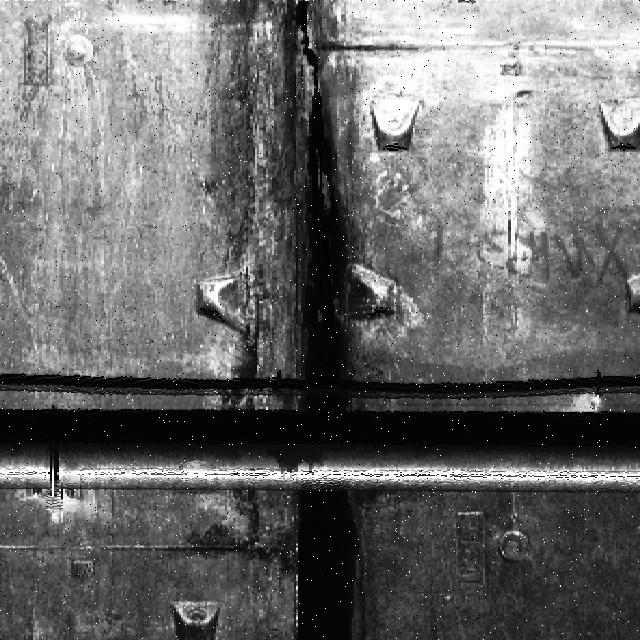leakage: (205, 0, 399, 406), (285, 476, 376, 639)
